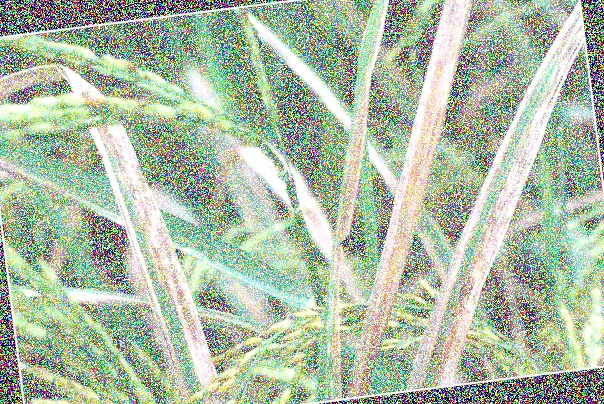Leaf_Blast: (329, 19, 559, 350), (77, 63, 202, 403)
